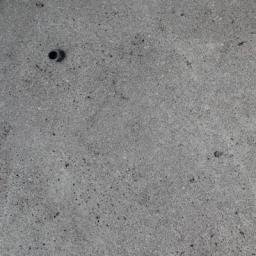FOD: (46, 48, 68, 67)
